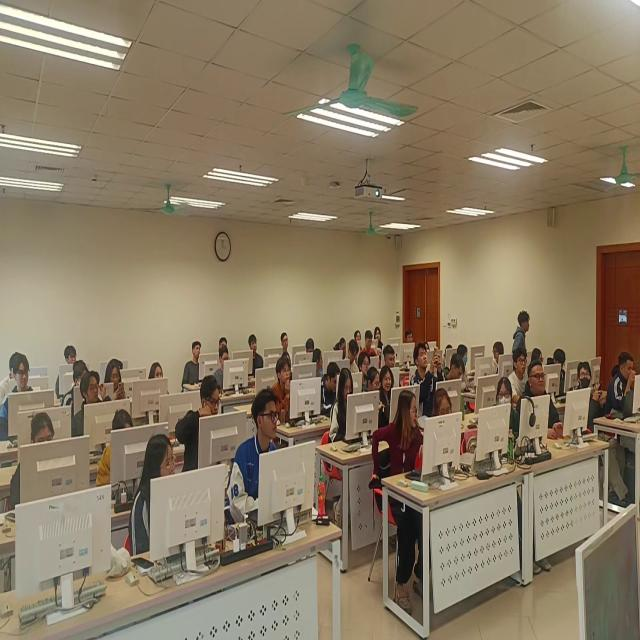raise_head: (230, 391, 285, 536), (129, 427, 181, 578), (177, 378, 225, 482), (522, 351, 561, 462), (4, 351, 39, 452), (572, 355, 606, 453), (76, 369, 103, 440), (271, 353, 293, 427), (144, 351, 169, 410), (56, 342, 78, 407), (382, 359, 397, 424), (248, 331, 265, 379), (359, 350, 372, 393), (280, 329, 293, 370), (375, 323, 385, 349), (407, 325, 415, 350)
sleep: (184, 336, 204, 393)
stand: (512, 306, 532, 360)
using_computer: (12, 404, 55, 524), (97, 403, 133, 493), (429, 384, 461, 467), (330, 365, 357, 461), (610, 341, 639, 429), (213, 346, 234, 393), (346, 333, 359, 373), (333, 329, 349, 361)
using_phone: (411, 342, 444, 407), (104, 357, 125, 409)
